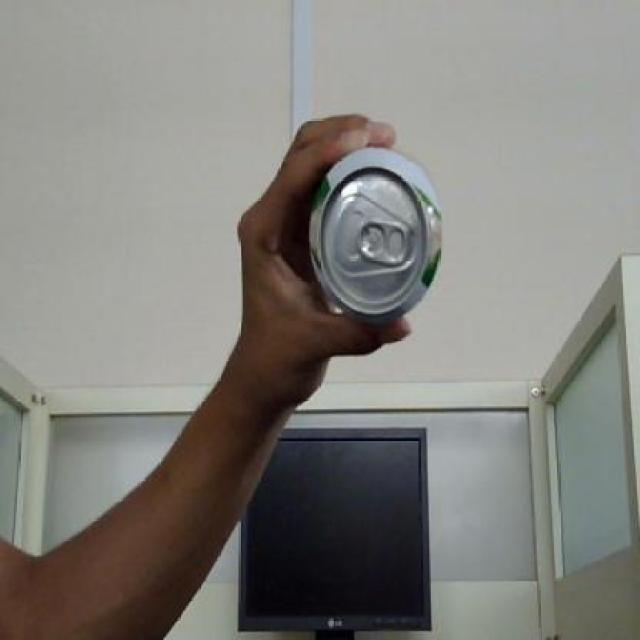Metal: (310, 143, 444, 322)
